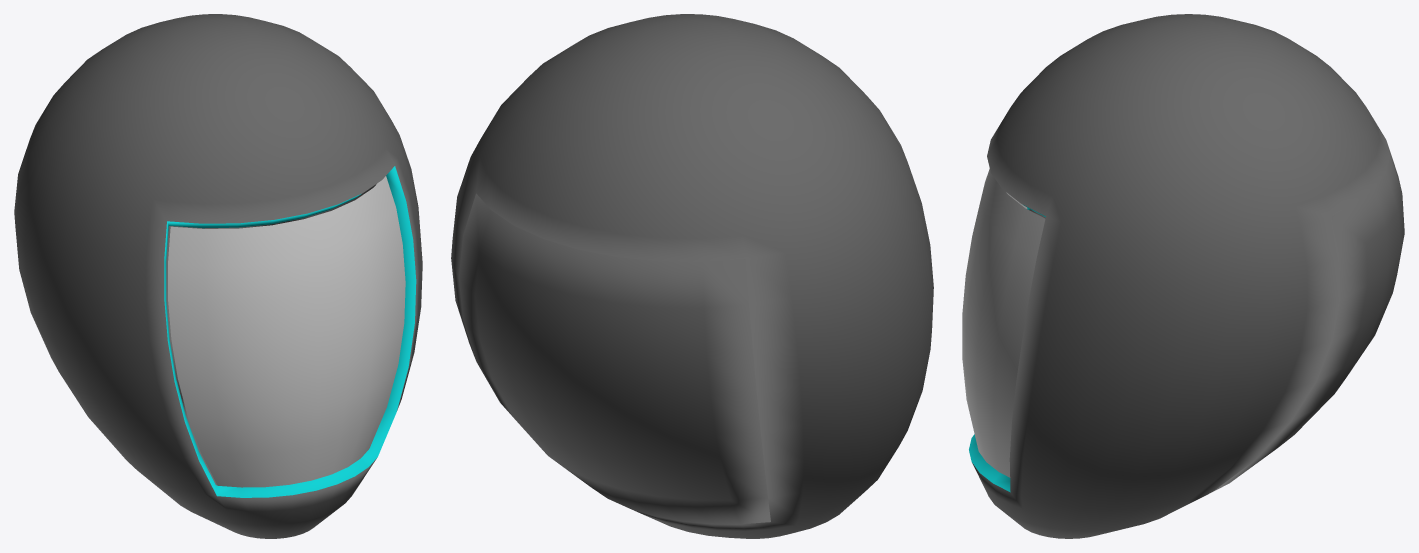
File: pilot helmet.fbx
3 views of the same model, side by side, from view 1: azimuth 30°, elevation 25°; view 2: azimuth 150°, elevation 25°; view 3: azimuth 270°, elevation 25° (orthographic). The views are drawn at different scales.
Parts seen in each view (by area): view 1: helmet; view 2: helmet; view 3: helmet.
Part boxes in pixels (left/top/right/bottom): helmet: left=14, top=14, right=422, bottom=538; helmet: left=451, top=14, right=933, bottom=538; helmet: left=962, top=14, right=1404, bottom=538.
Size of the model in its own units: 26.77 by 33.1 by 26.92.
